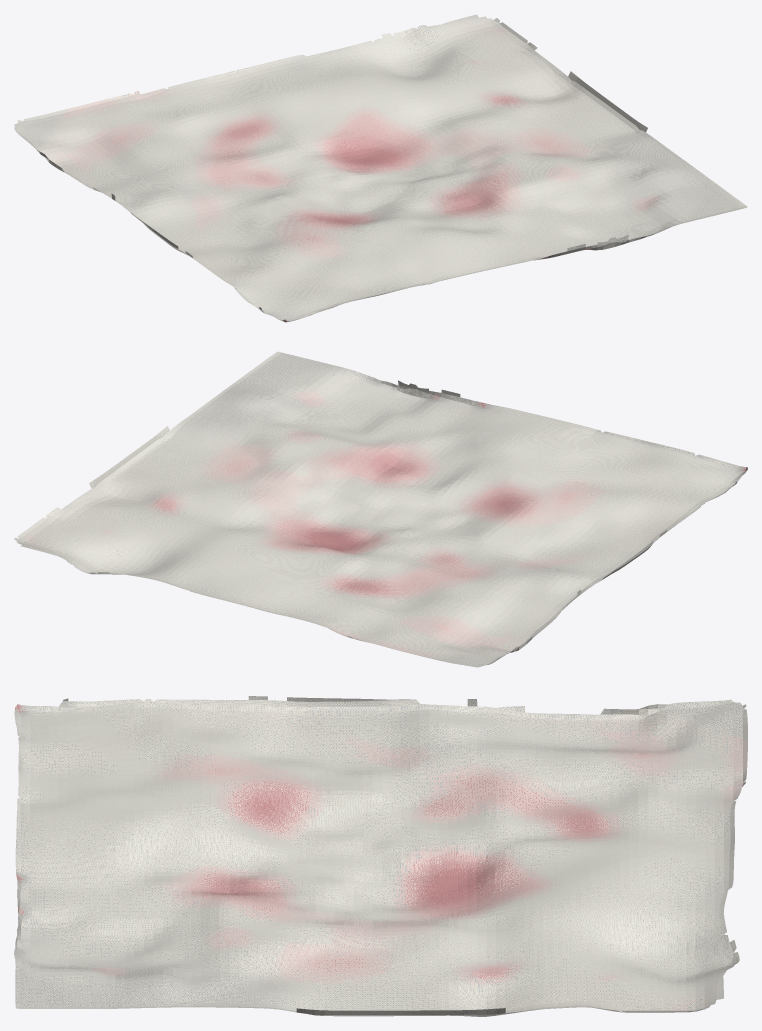
File: Ground.glb
The picture shows the model from 3 angles, top to bottom: view 1: azimuth 30°, elevation 25°; view 2: azimuth 150°, elevation 25°; view 3: azimuth 270°, elevation 25°; orthographic projection. The views are drawn at different scales.
Parts seen in each view (by area): view 1: Ground; view 2: Ground; view 3: Ground.
Boxes of the visible parts, x1,y1,x2,y2 form: Ground: (14, 14, 747, 322); Ground: (14, 351, 747, 667); Ground: (14, 696, 747, 1016).
Size of the model in its own units: 2847 by 141 by 2817.
Materials: 1 (1 with a texture image).
